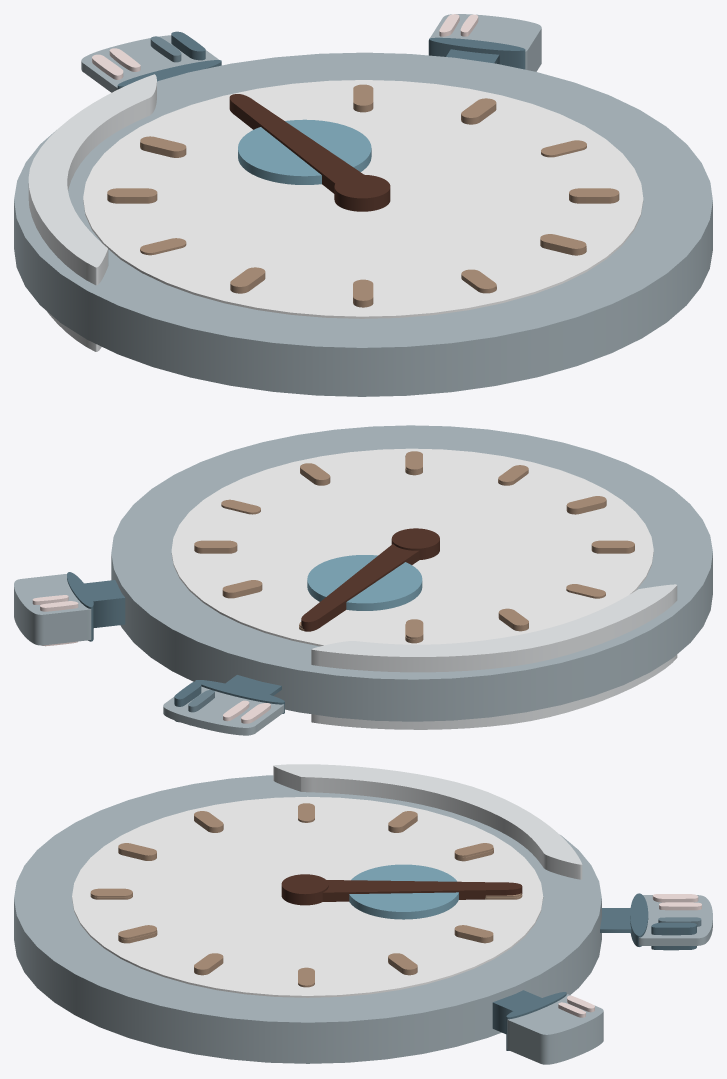
The model's file is emoji_u23f1.glb.
3 views of the same model, one above another, from view 1: azimuth 30°, elevation 25°; view 2: azimuth 150°, elevation 25°; view 3: azimuth 270°, elevation 25° (orthographic). The views are drawn at different scales.
Parts seen in each view (by area): view 1: emoji_u23f1; view 2: emoji_u23f1; view 3: emoji_u23f1.
Boxes of the visible parts, x1,y1,x2,y2 form: emoji_u23f1: (14, 14, 712, 396); emoji_u23f1: (14, 425, 712, 735); emoji_u23f1: (14, 764, 712, 1064).
Size of the model in its own units: 0.0292 by 0.0038 by 0.0338.
